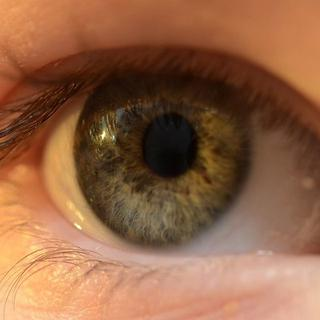pupil: (137, 114, 200, 176)
